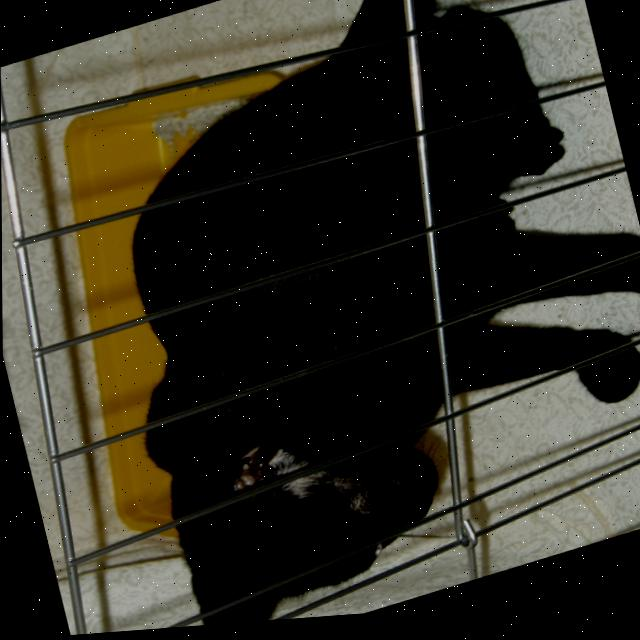Bombay: (42, 0, 640, 638)
